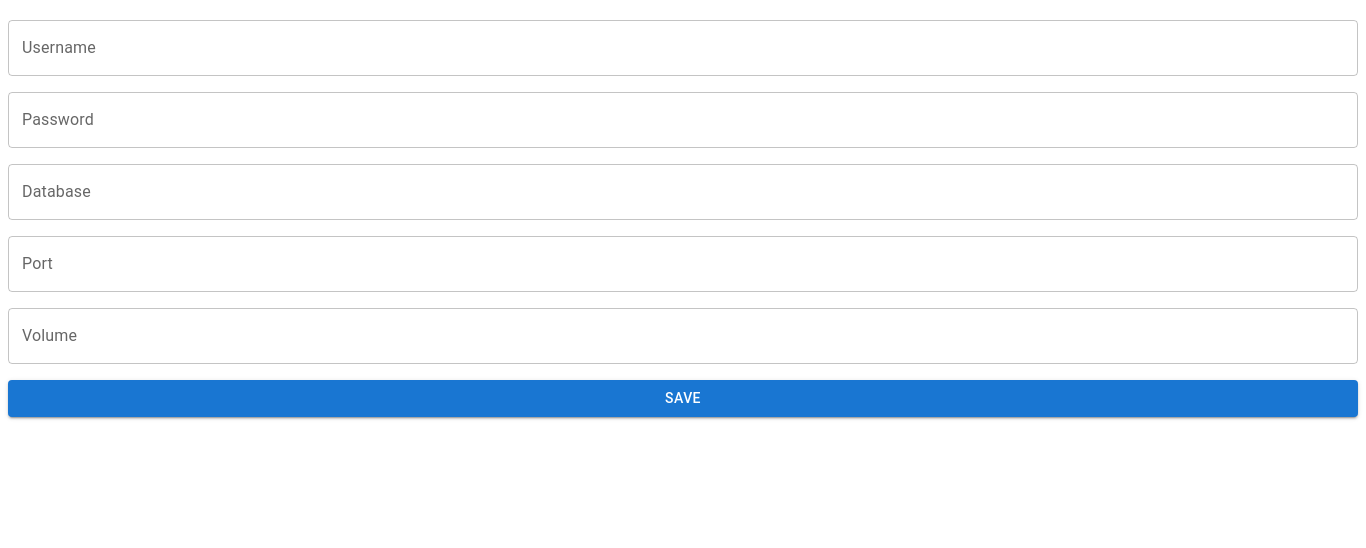
Test case: PostgreSqlDockerComposeForm › should show error messages when form is invalid and submitted
Click the button "Save".
click(683, 398)  # box [8,380,1358,416]
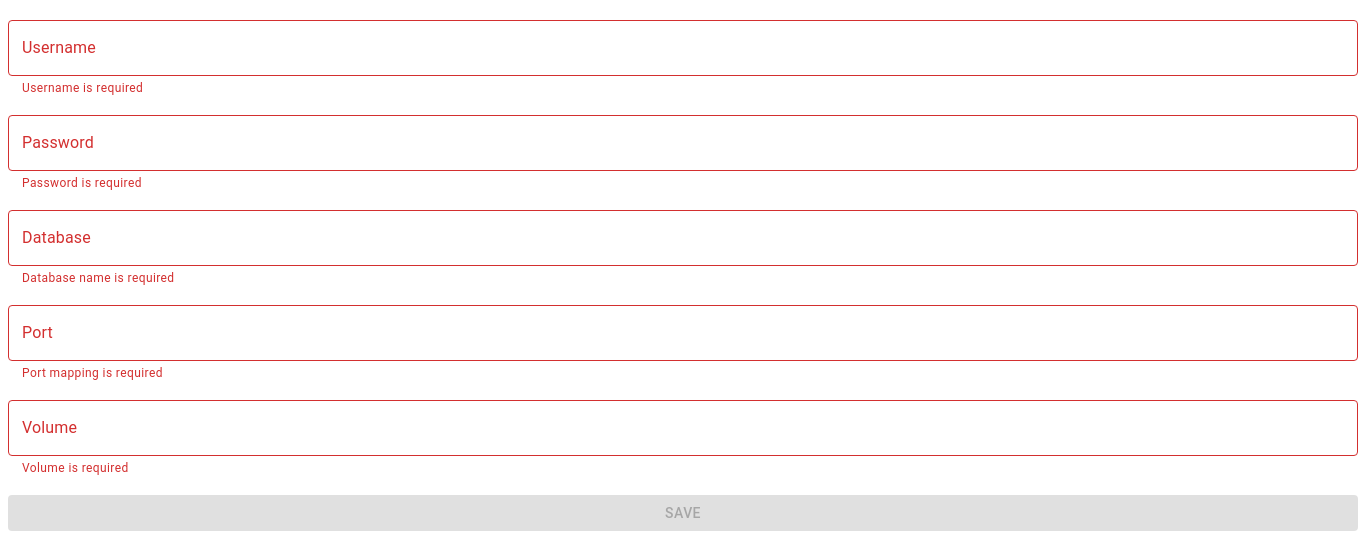
Type "user1--" into the field labelled "Username".
click(683, 48); type("user1--")  # box [8,20,1358,76]
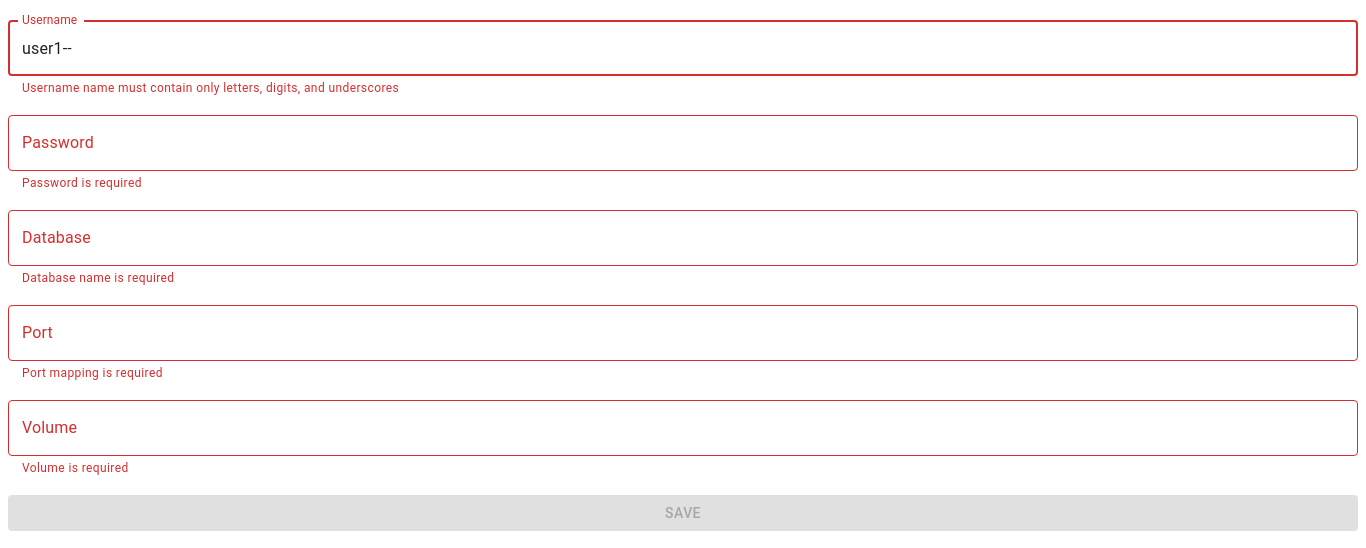
Type "password" into the password field labelled "Password".
click(683, 143); type("password")  # box [8,115,1358,171]
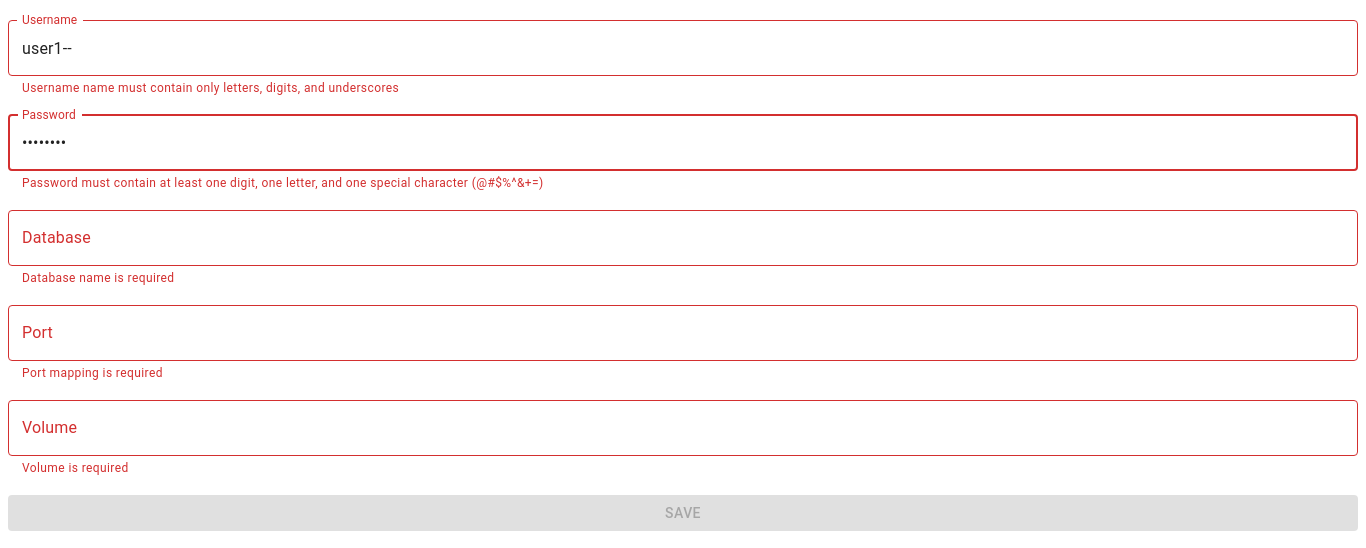
Type "db1--" into the field labelled "Database".
click(683, 238); type("db1--")  # box [8,210,1358,266]
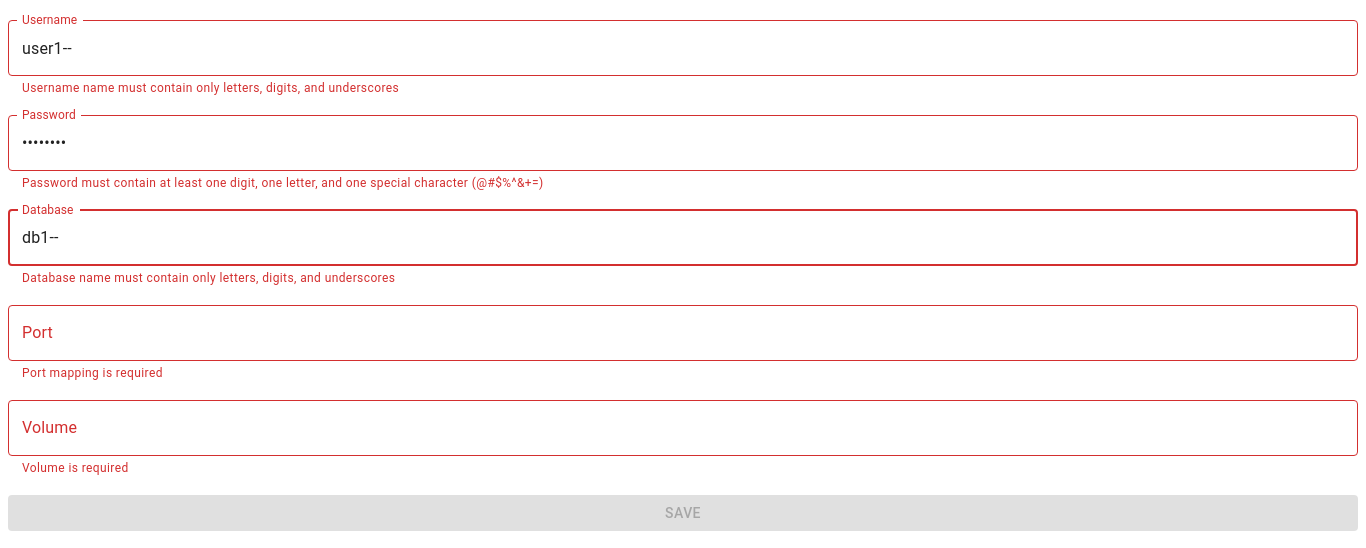
Result: the text "Username name must contain only letters, digits, and underscores" is shown at [22,81,399,95]
Result: the text "Password must contain at least one digit, one letter, and one special character (@#$%^&+=)" is shown at [22,176,544,190]
Result: the text "Database name must contain only letters, digits, and underscores" is shown at [22,271,395,285]
